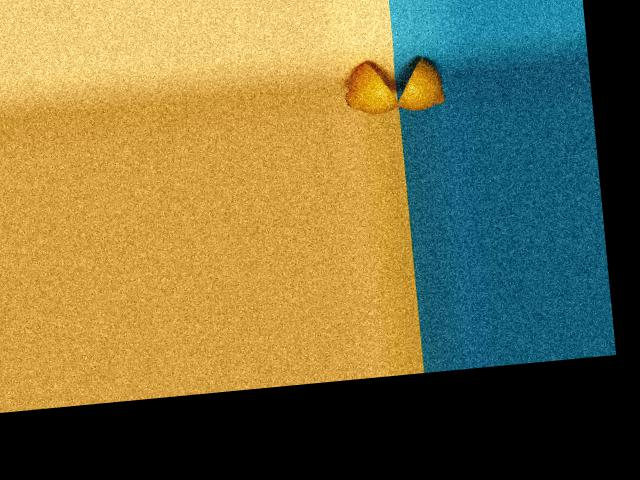lemon: (391, 51, 452, 115)
